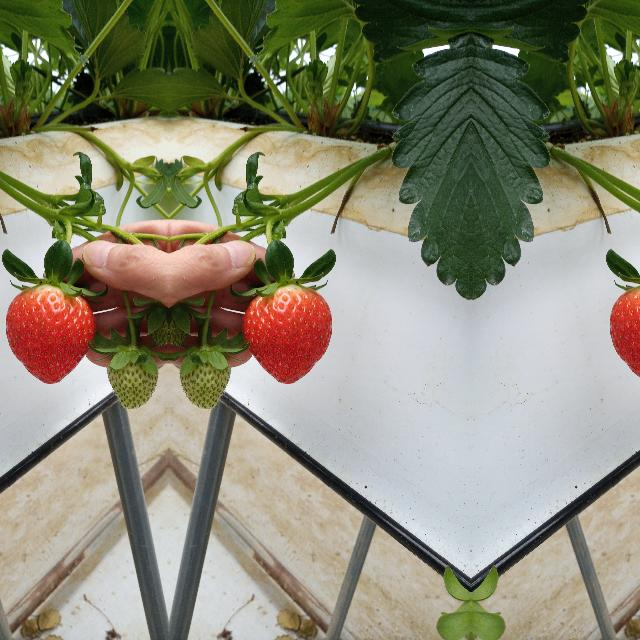Health_100: (240, 284, 332, 384), (5, 284, 96, 384), (609, 283, 640, 384)
Health_25: (178, 342, 230, 412), (106, 342, 158, 412)
